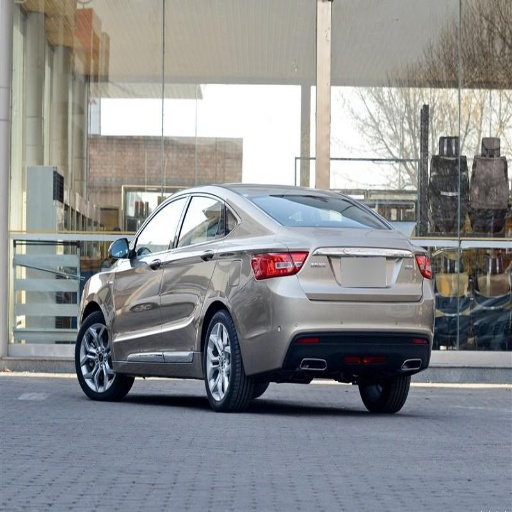back_bumper: (238, 278, 431, 374)
back_glass: (247, 193, 383, 227)
back_left_door: (164, 193, 226, 362)
tailgate: (288, 222, 416, 302)
